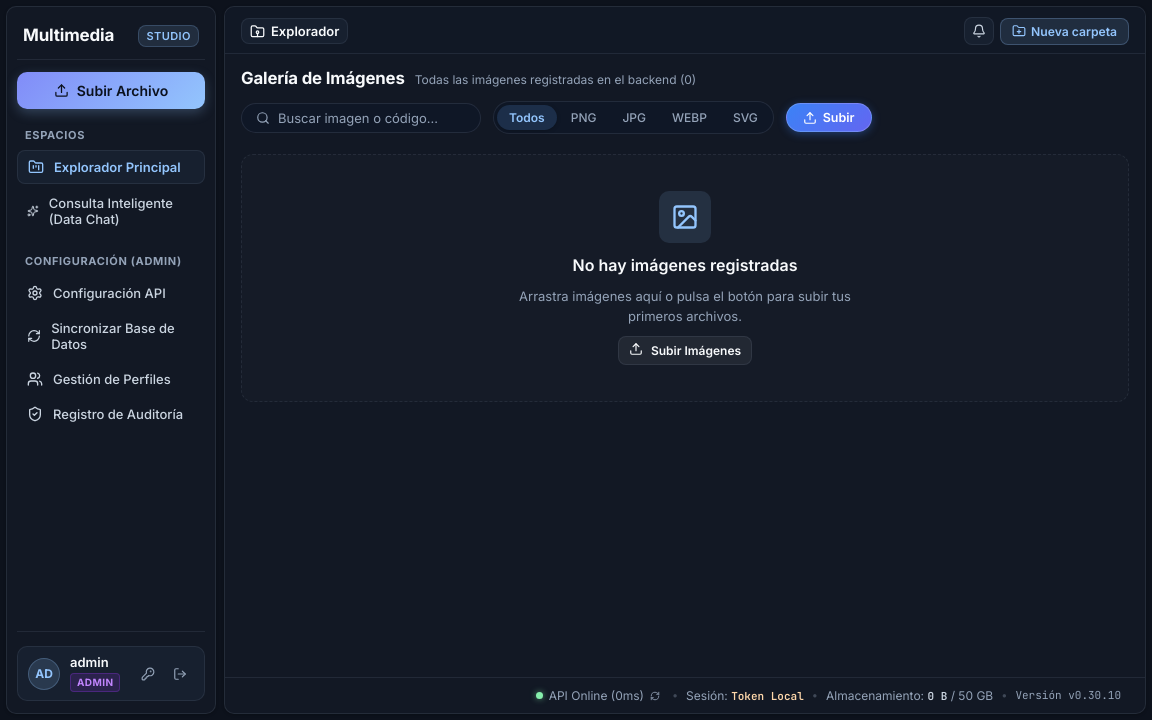
Test: App Expansion Navigation & E2E (Módulos 19 - 22) › navega hacia el Registro de Auditoría desde el Sidebar para el rol ADMIN
expect the text "Registro de Auditoría" is shown: met, box x1=53 y1=406 x2=183 y2=422
Click the button "Registro de Auditoría". click: coordinates (111, 414)
box: x1=17 y1=398 x2=205 y2=430
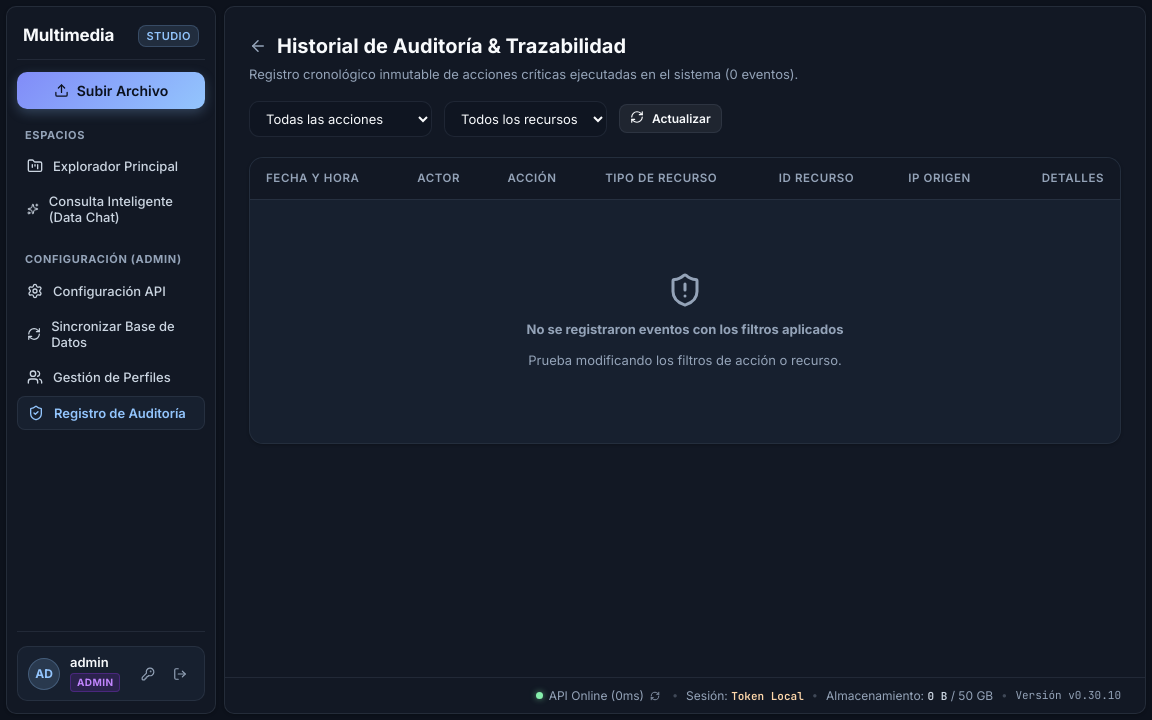
expect the heading "Historial de Auditoría & Trazabilidad" is shown: met, box x1=277 y1=31 x2=626 y2=61
